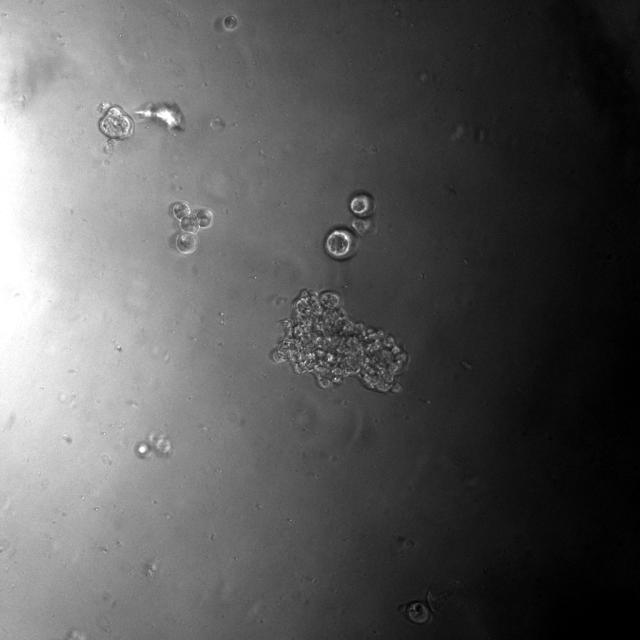organoid: (272, 290, 408, 393), (323, 191, 375, 259), (171, 201, 212, 253), (96, 101, 134, 153), (134, 102, 185, 131), (134, 432, 172, 459), (399, 601, 431, 624), (222, 14, 238, 31)
